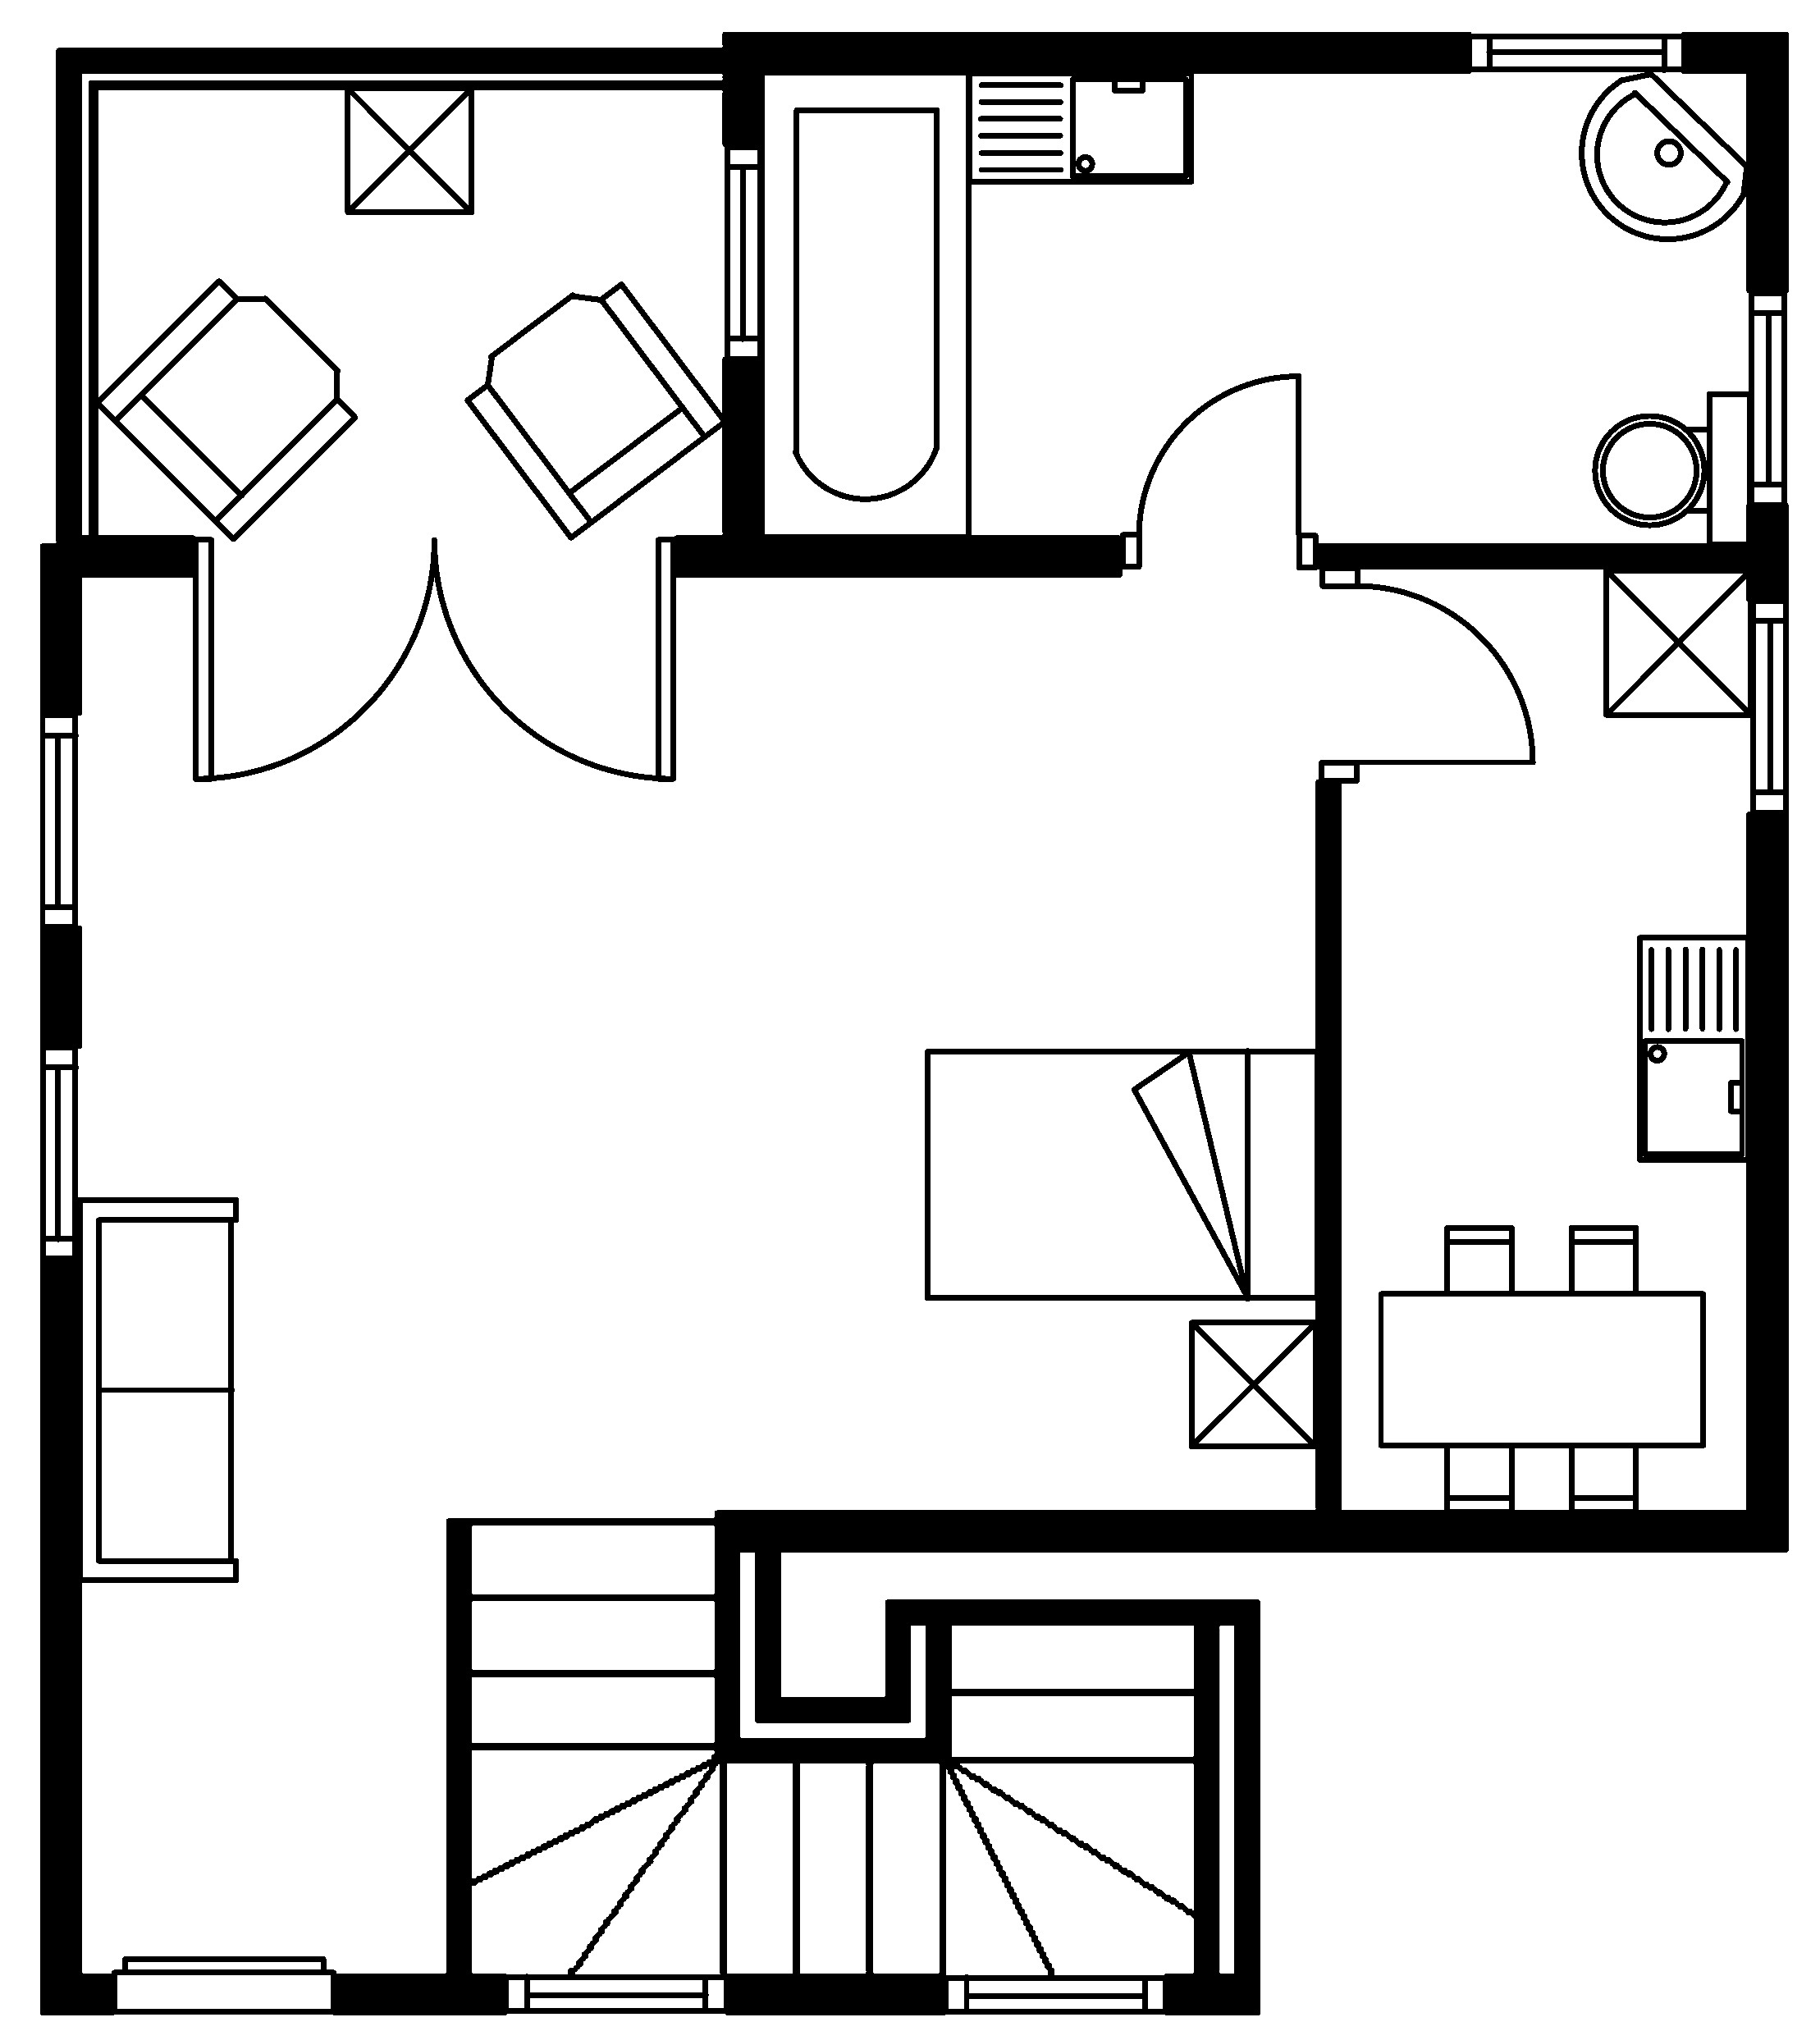armchair: (93, 276, 358, 543), (462, 279, 727, 541)
bed: (922, 1047, 1321, 1302)
coffee_table: (1602, 566, 1753, 719), (1186, 1318, 1319, 1449), (343, 84, 474, 214)
dining_table: (1376, 1223, 1706, 1516)
large_sink: (1592, 388, 1753, 548)
large_sofa: (76, 1195, 239, 1583)
sink: (1634, 933, 1750, 1163), (964, 69, 1195, 184)
small_sink: (1578, 70, 1750, 241)
tub: (757, 69, 971, 539)
